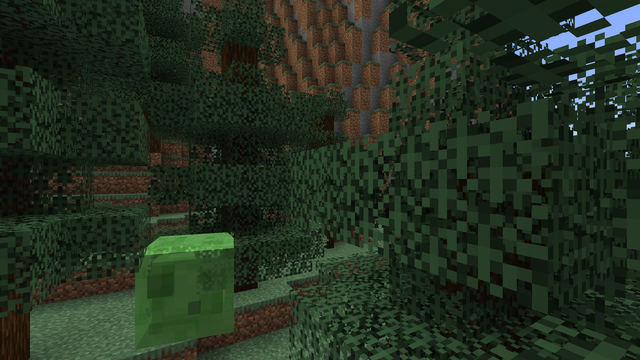slimes: (141, 228, 242, 354)
